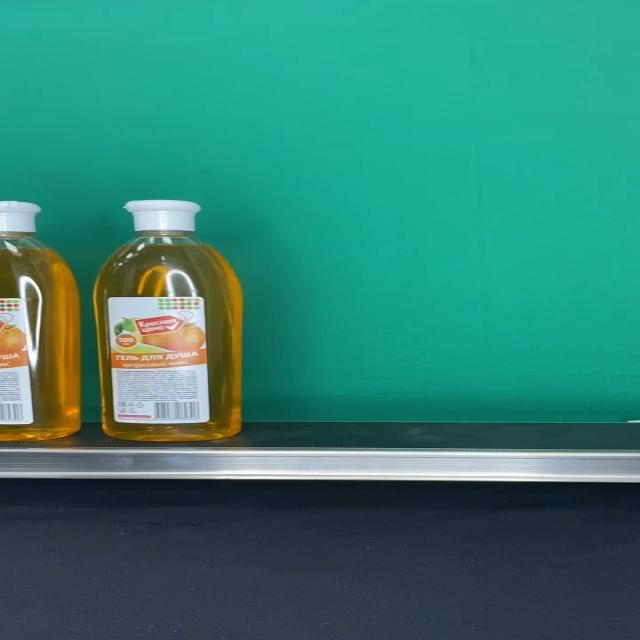Bottle: (93, 200, 244, 442)
Cap: (122, 200, 201, 232)
